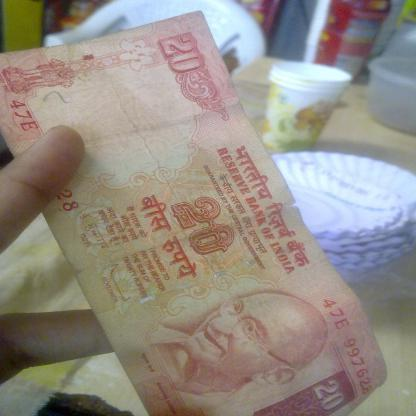Old20Front: (0, 8, 387, 415)
